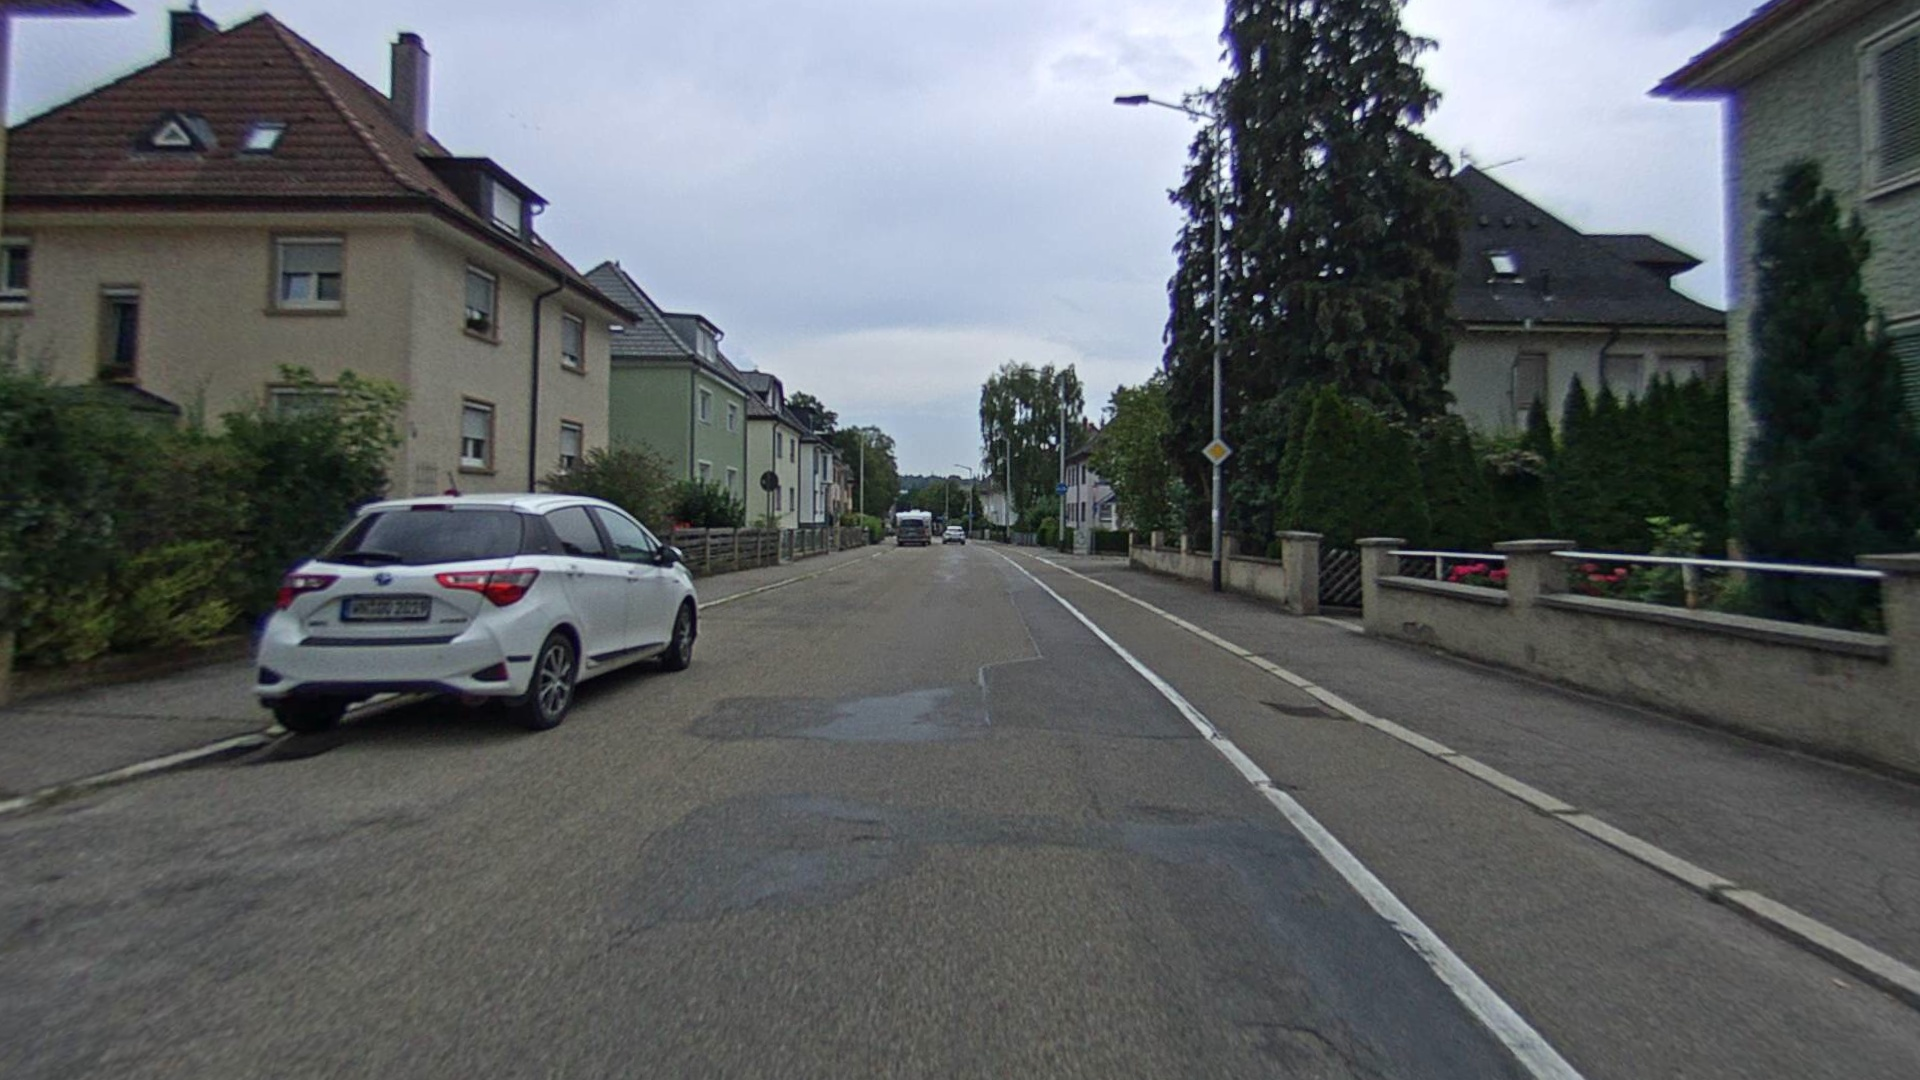car: (251, 491, 702, 738)
